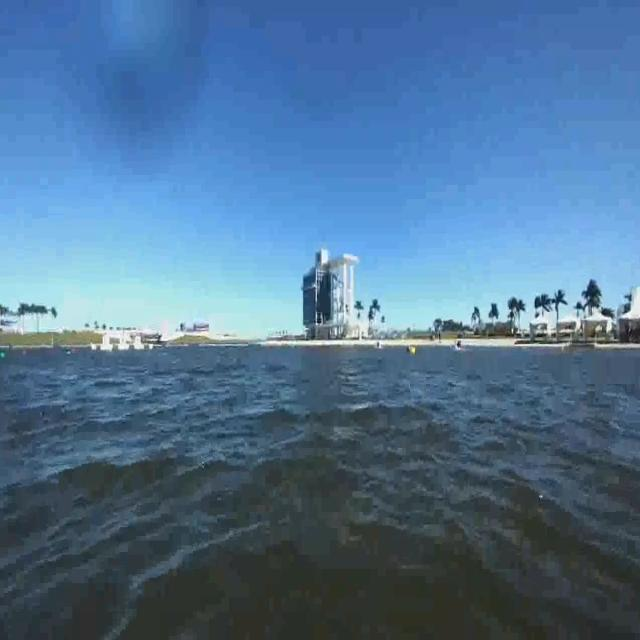yellow-buoy: (411, 346, 417, 357)
